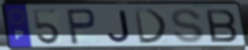5: (31, 8, 62, 47)
B: (203, 8, 240, 44)
D: (133, 8, 171, 45)
J: (106, 9, 133, 44)
P: (64, 8, 98, 46)
S: (170, 8, 206, 45)
